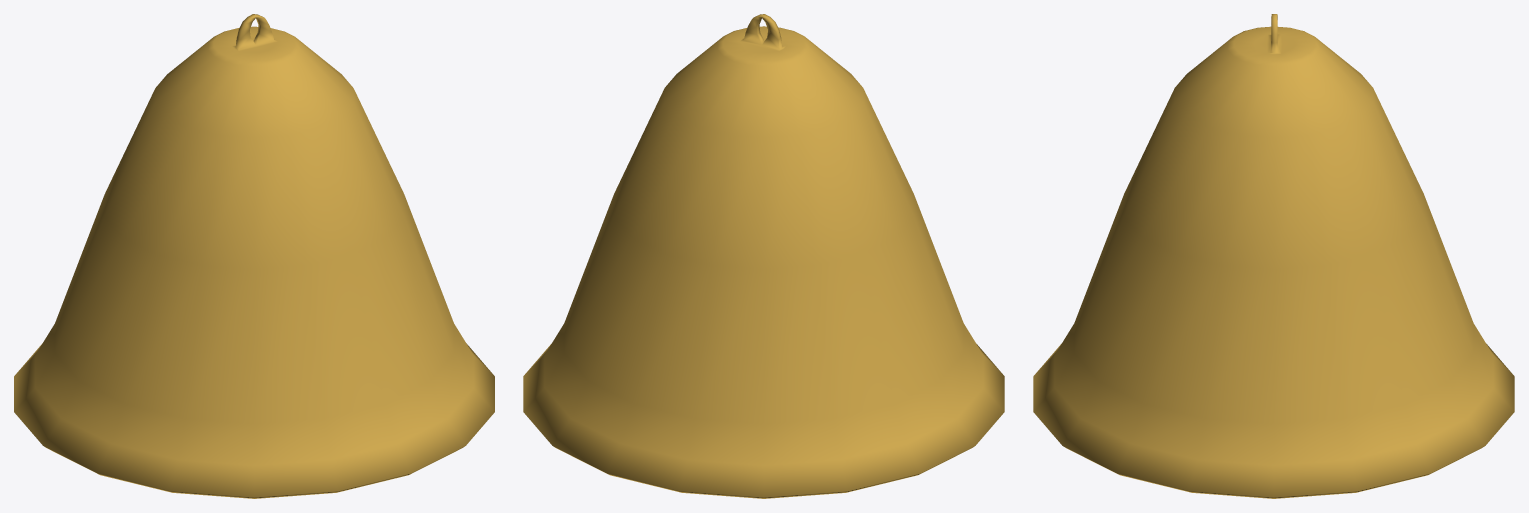
The model's file is Bell.fbx.
3 renders of one model, left to right at view 1: azimuth 30°, elevation 25°; view 2: azimuth 150°, elevation 25°; view 3: azimuth 270°, elevation 25°, orthographic.
Parts seen in each view (by area): view 1: Bell; view 2: Bell; view 3: Bell.
Part boxes in pixels (left/top/right/bottom): Bell: left=14, top=14, right=494, bottom=498; Bell: left=523, top=14, right=1004, bottom=498; Bell: left=1033, top=14, right=1514, bottom=498.
Size of the model in its own units: 8.43 by 8.51 by 8.3.
Materials: 1 (1 with a texture image).
